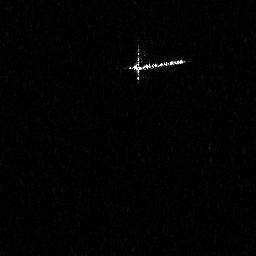ship: (128, 45, 186, 83)
